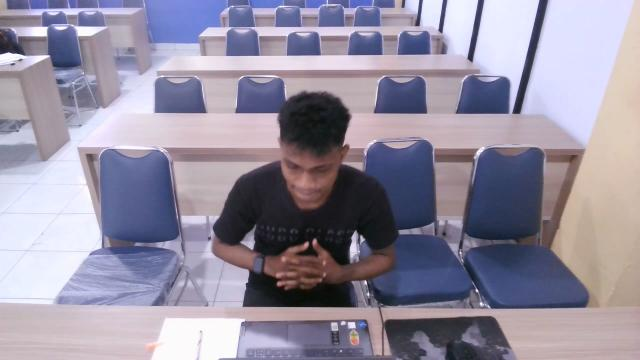Normal_Focus: (195, 81, 398, 360)
